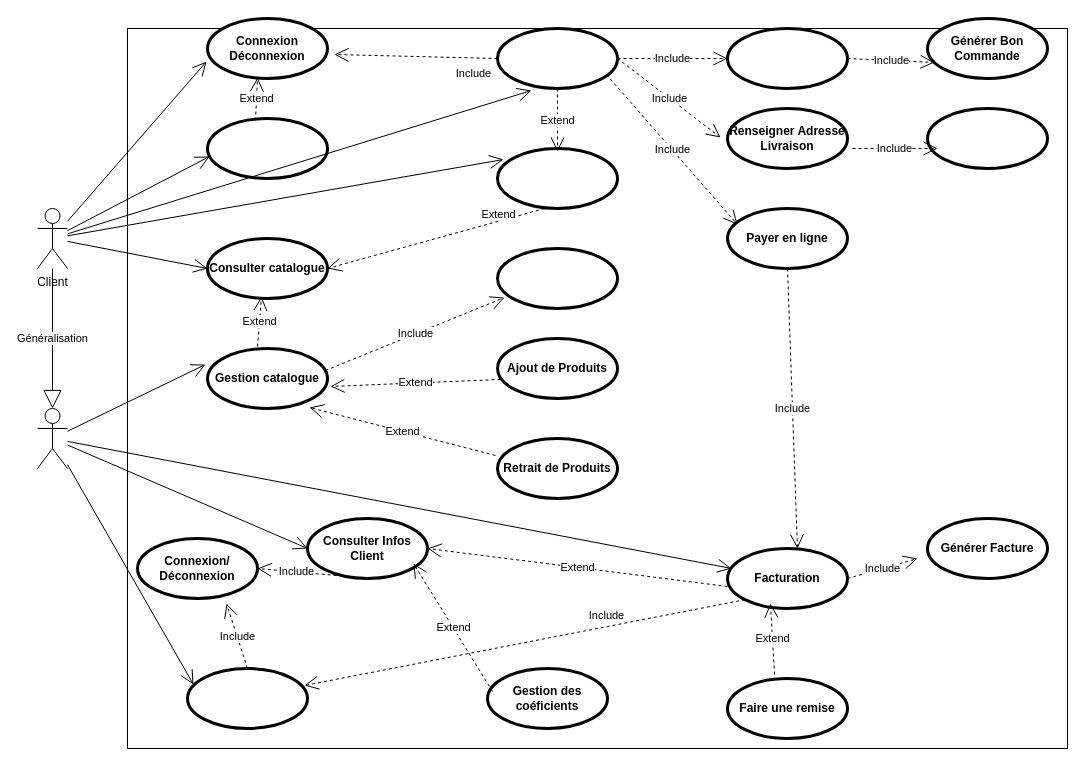
The diagram is 1085 pixels wide and 766 high, and some of its shapes have lost their labels. The shapes that lost their labels are listed below. From the top down, each one's centre as x and y in pixels, then its label:
At point (557, 58): "Valider Commande".
At point (787, 58): "Renseigner Adresse Facturation".
At point (267, 148): "Inscription".
At point (987, 138): "Générer Bon Livraison".
At point (557, 178): "Gestion Panier".
At point (557, 278): "Organisation Classification".
At point (52, 438): "Commercial".
At point (247, 698): "Gestion Stock".
